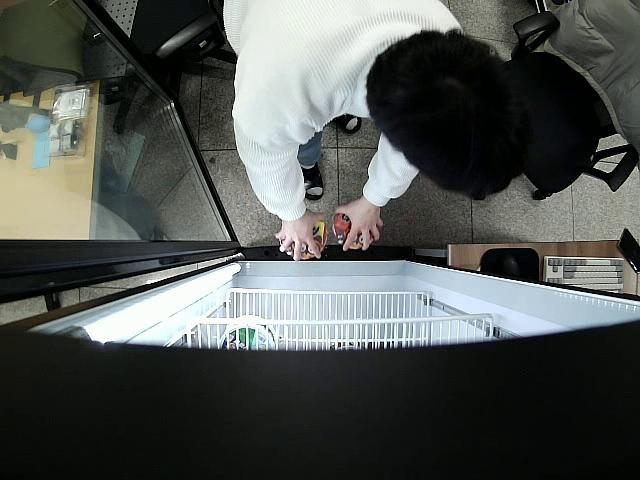05_nuguri_L: (278, 221, 328, 260), (333, 214, 378, 250)
